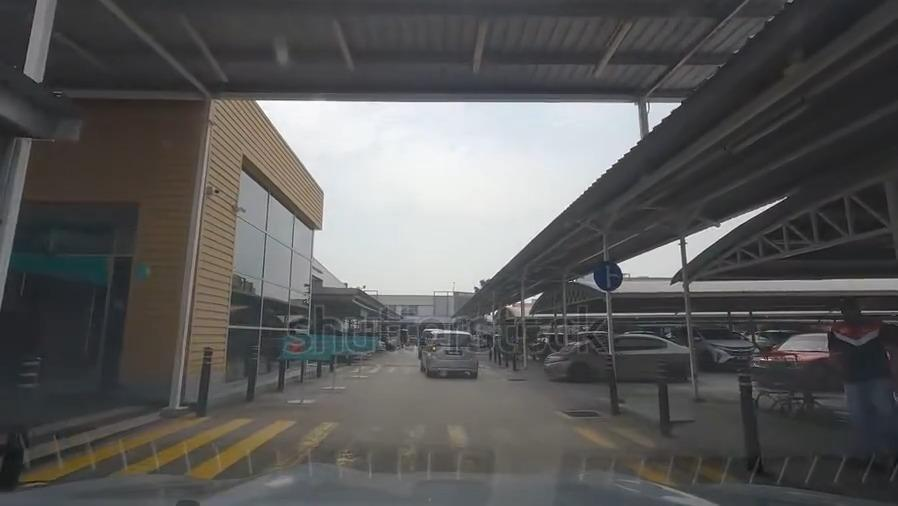car: (544, 332, 699, 385), (674, 319, 757, 371), (761, 331, 831, 383), (424, 331, 479, 376), (748, 325, 786, 346)
manhole: (560, 404, 599, 423), (418, 326, 438, 353), (505, 372, 527, 387)
pedestrian: (29, 424, 699, 468), (338, 361, 507, 381)
person: (826, 295, 898, 460)
